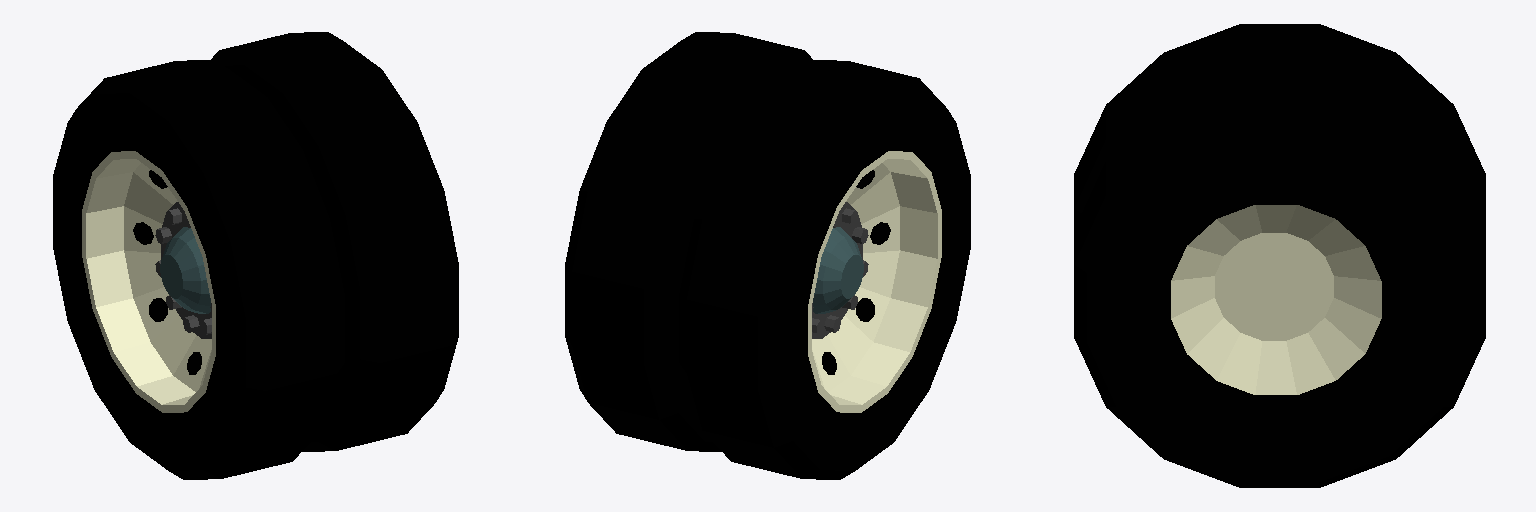
Rendered from wheel03.obj.
The picture shows the model from 3 angles: view 1: azimuth 30°, elevation 25°; view 2: azimuth 150°, elevation 25°; view 3: azimuth 270°, elevation 25°; orthographic projection.
Visible parts, largest first — view 1: Wheel03; view 2: Wheel03; view 3: Wheel03.
Boxes of the visible parts, x1,y1,x2,y2 form: Wheel03: [53, 32, 458, 479]; Wheel03: [565, 32, 970, 479]; Wheel03: [1074, 24, 1485, 487].
Size of the model in its own units: 20.22 by 33.69 by 33.69.